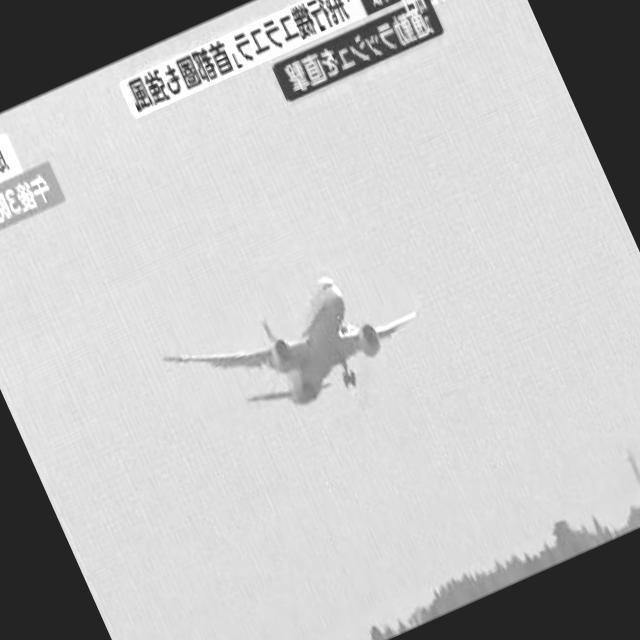aeroplane: (152, 229, 442, 462)
